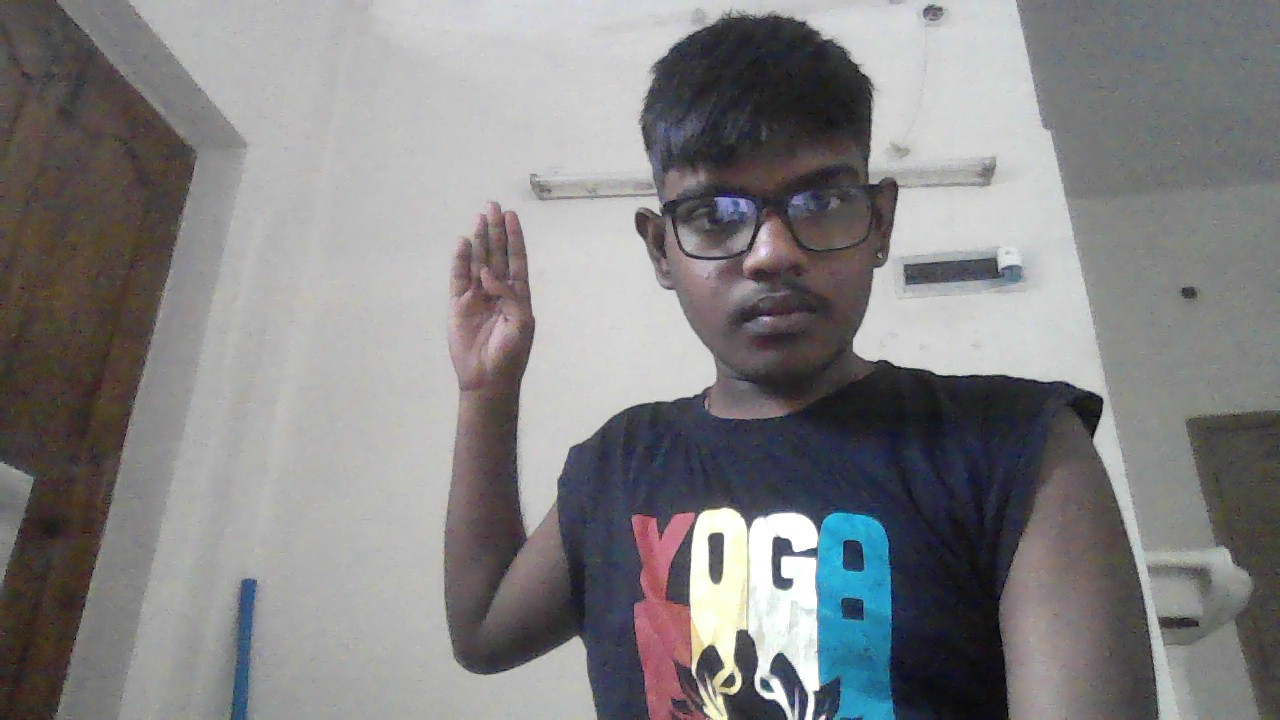B: (447, 202, 536, 394)
